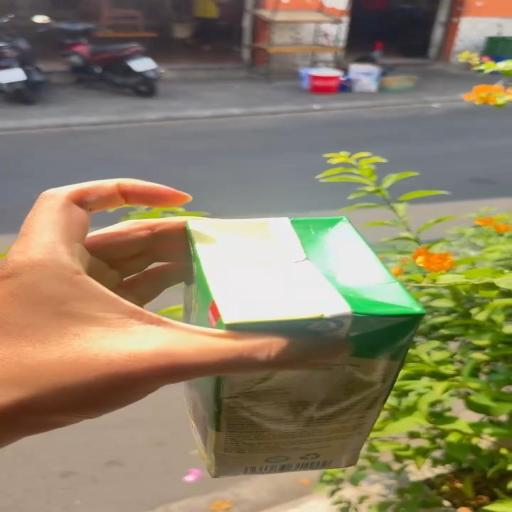ly_giay: (183, 217, 424, 477)
